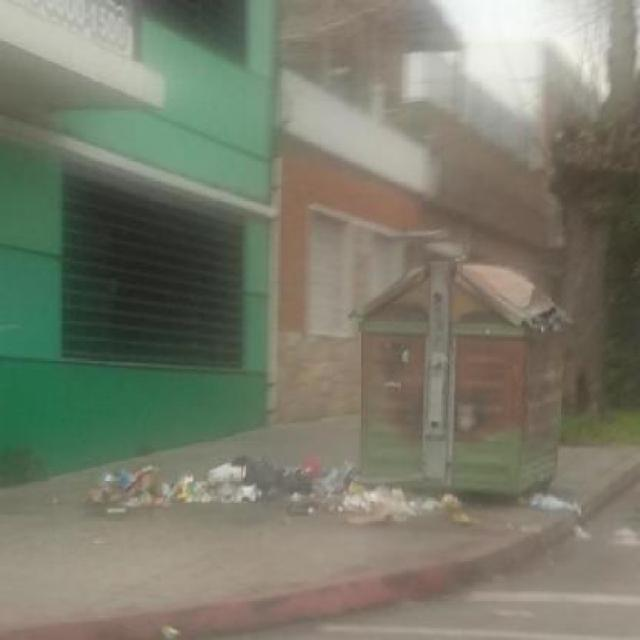garbage: (97, 446, 492, 537)
